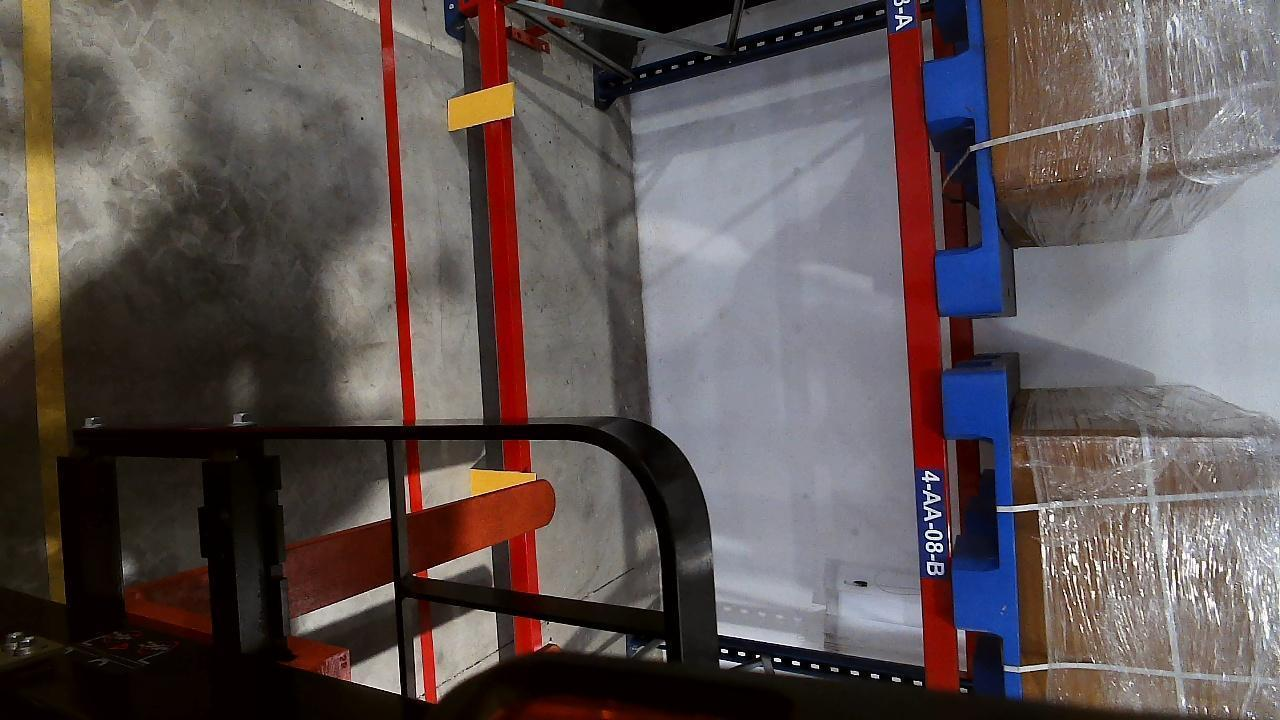red_line: (378, 0, 418, 443)
yellow_line: (17, 0, 66, 447)
